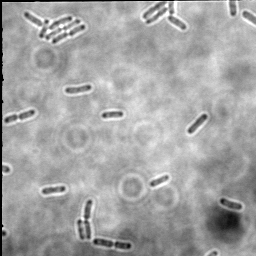Dividing: (3, 107, 37, 126), (141, 1, 168, 22), (93, 236, 133, 250), (82, 199, 95, 241), (145, 6, 169, 26)
Microcolony: (24, 11, 87, 46)
Rod: (185, 112, 210, 135), (218, 196, 244, 212), (40, 183, 68, 197), (64, 83, 94, 96), (166, 14, 188, 31), (148, 173, 171, 188), (75, 218, 86, 242), (101, 109, 125, 120)
